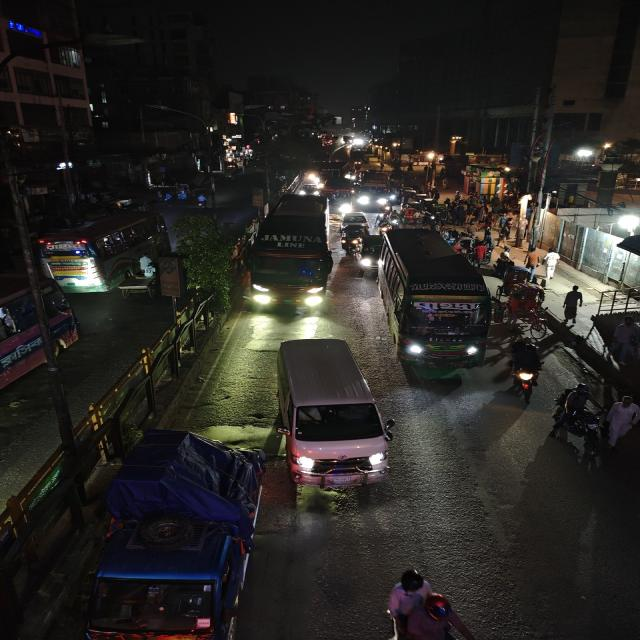bus: (376, 222, 496, 376), (36, 208, 168, 291), (251, 190, 335, 305), (0, 277, 77, 398), (355, 171, 393, 214)
car: (270, 336, 392, 500), (299, 184, 320, 196)
cng: (339, 223, 363, 249)
motorcycle: (548, 382, 604, 456), (512, 338, 551, 402)
pedestrian: (564, 285, 583, 326), (523, 248, 543, 280), (545, 250, 561, 282), (473, 240, 488, 266)
pickup_van: (70, 427, 268, 640)
rickshaw: (502, 282, 553, 338), (122, 258, 162, 301), (405, 207, 424, 228)
